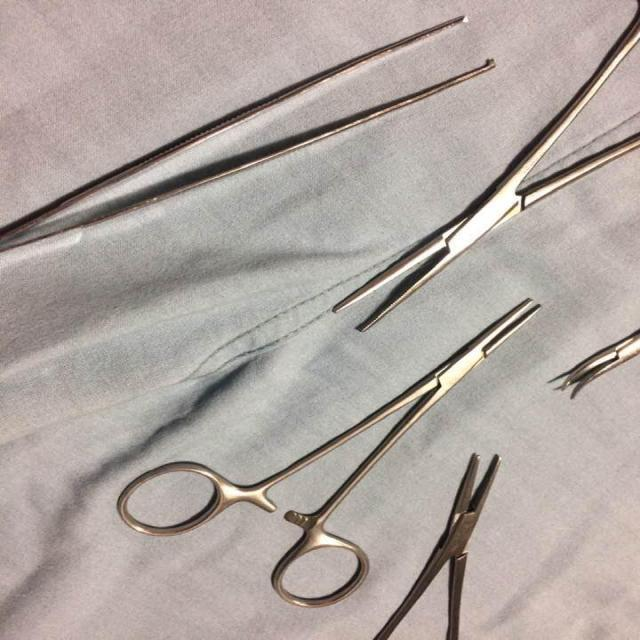Forceps: (2, 14, 502, 255)
Hemostat: (116, 294, 545, 612), (330, 0, 640, 335), (370, 450, 506, 640), (557, 330, 640, 404)
